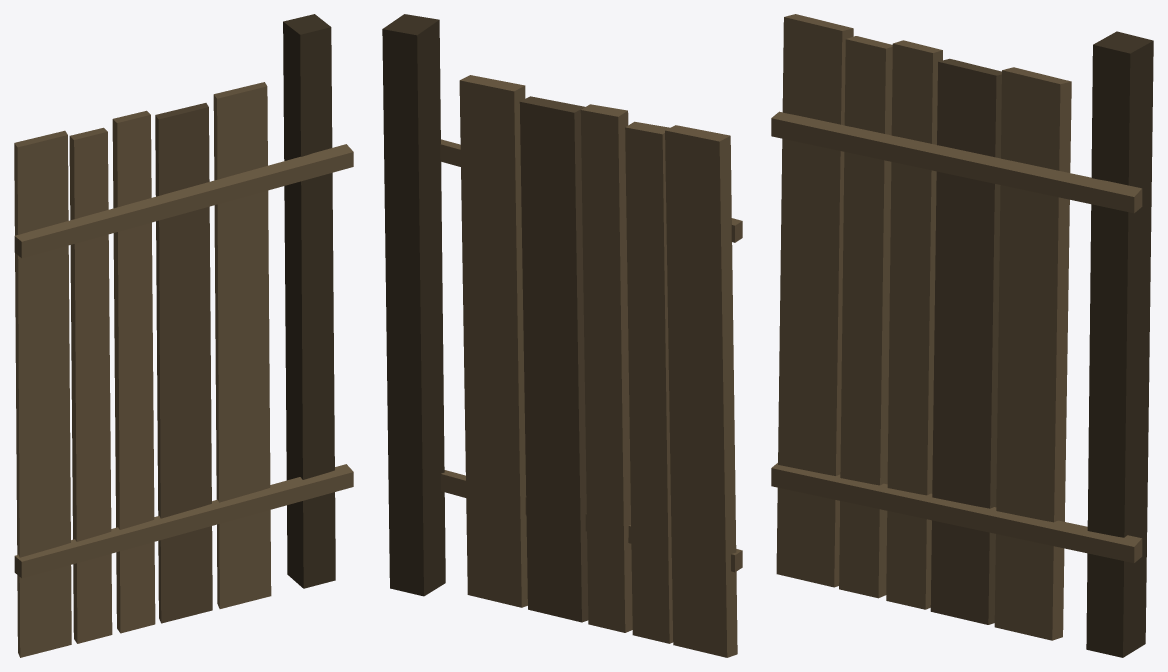
Rendered from EA03_Fence_Plank_02d.glb.
3 views of the same model, side by side, from view 1: azimuth 30°, elevation 25°; view 2: azimuth 150°, elevation 25°; view 3: azimuth 330°, elevation 25° (orthographic). The views are drawn at different scales.
Visible parts, largest first — view 1: EA03_Fence_Plank_02d; view 2: EA03_Fence_Plank_02d; view 3: EA03_Fence_Plank_02d.
Part boxes in pixels (left/top/right/bottom): EA03_Fence_Plank_02d: left=14, top=14, right=353, bottom=657; EA03_Fence_Plank_02d: left=382, top=14, right=742, bottom=657; EA03_Fence_Plank_02d: left=771, top=14, right=1153, bottom=657.
Size of the model in its own units: 1.92 by 3.04 by 0.2843.
Materials: 1 (1 with a texture image).
